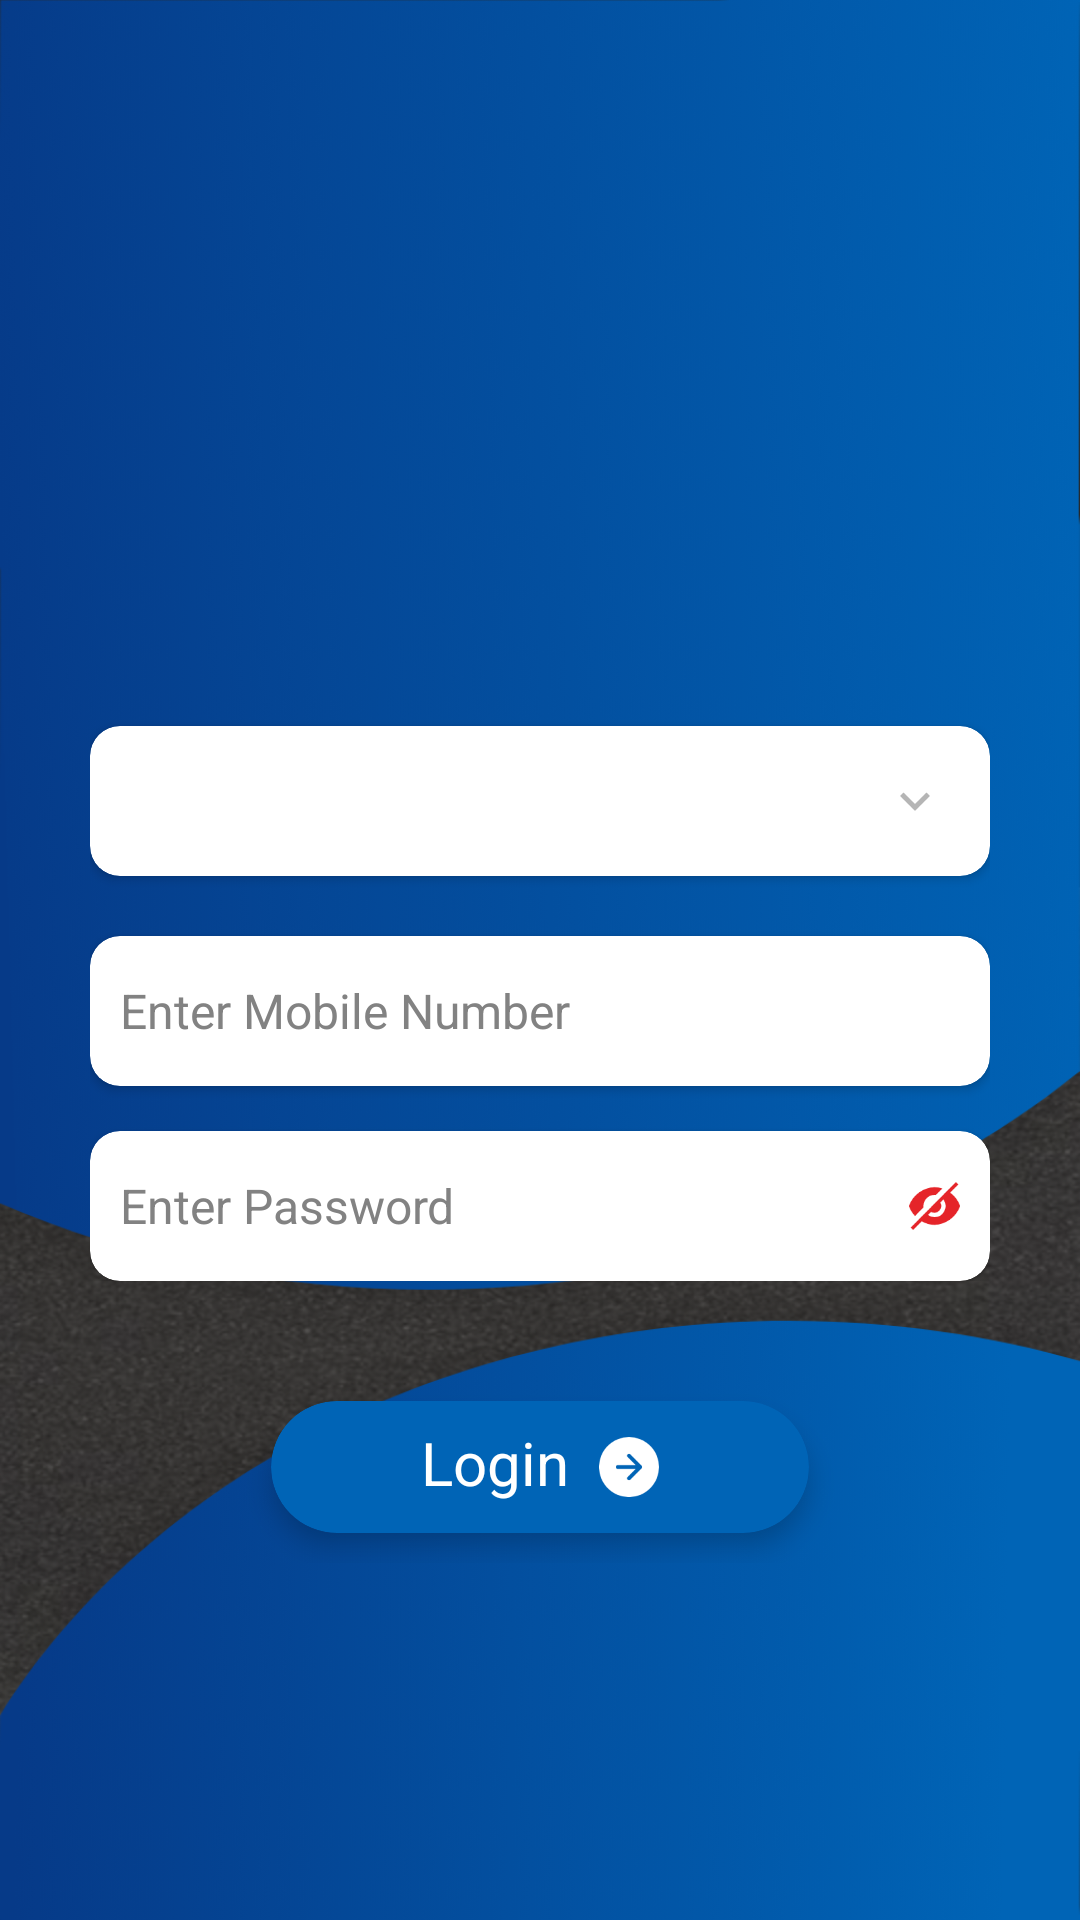

Icons on this 1080px×1920px Android screen, each with its box as (x1, y1, x2, y2):
arrow circle: (599, 1437, 659, 1497)
arrow down: (900, 793, 930, 811)
